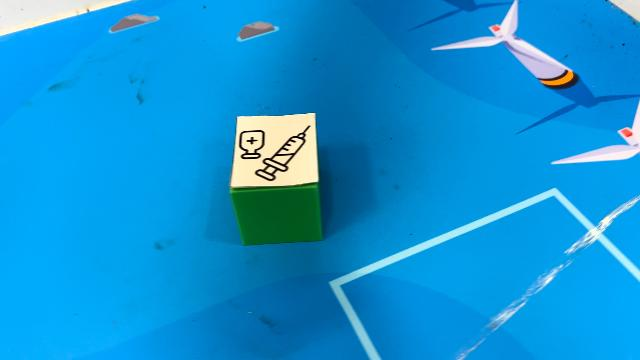syringe: (232, 115, 326, 244)
